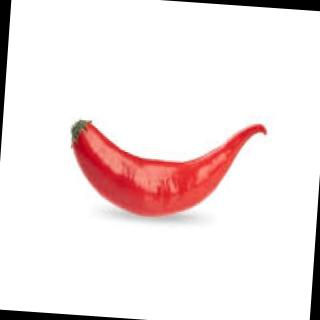Cabai Merah: (66, 110, 270, 224)
